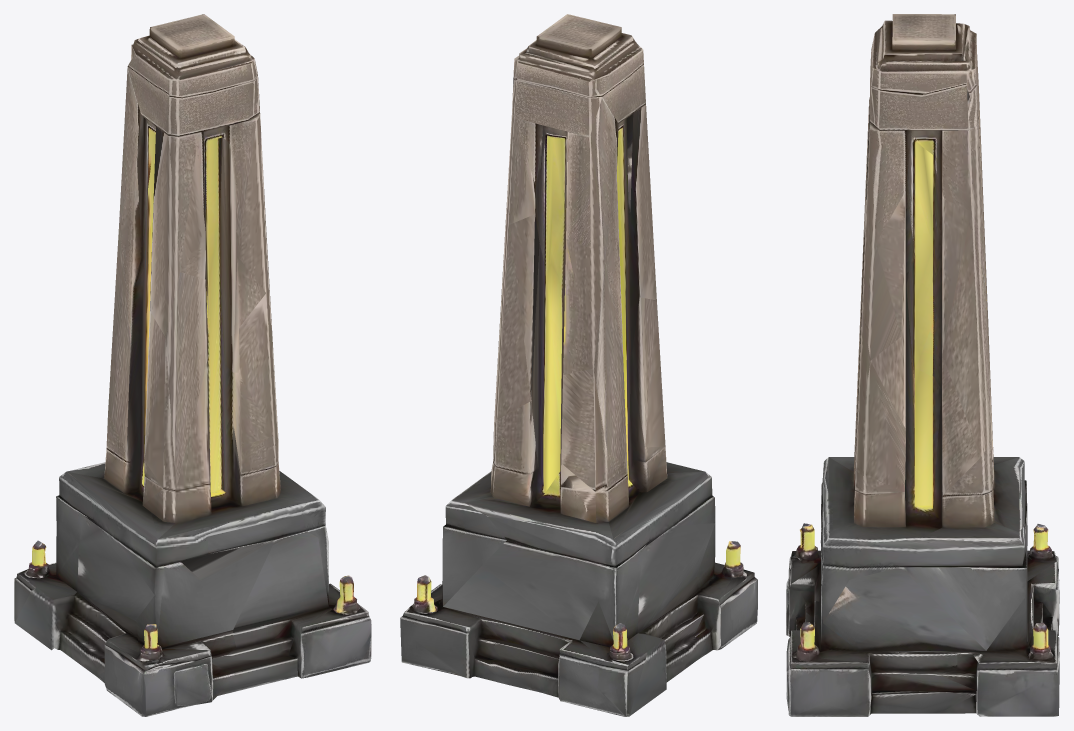
Rendered from monumentPylon.glb.
3 renders of one model, left to right at view 1: azimuth 30°, elevation 25°; view 2: azimuth 150°, elevation 25°; view 3: azimuth 270°, elevation 25°, orthographic. The views are drawn at different scales.
Parts seen in each view (by area): view 1: monumentPylon; view 2: monumentPylon; view 3: monumentPylon.
Part boxes in pixels (bbox=[...]): monumentPylon: bbox=[14, 14, 371, 716]; monumentPylon: bbox=[400, 14, 757, 716]; monumentPylon: bbox=[786, 14, 1059, 716].
Bounding box in the file's own units: 3.93 × 10 × 3.92.
Materials: 1 (1 with a texture image).
